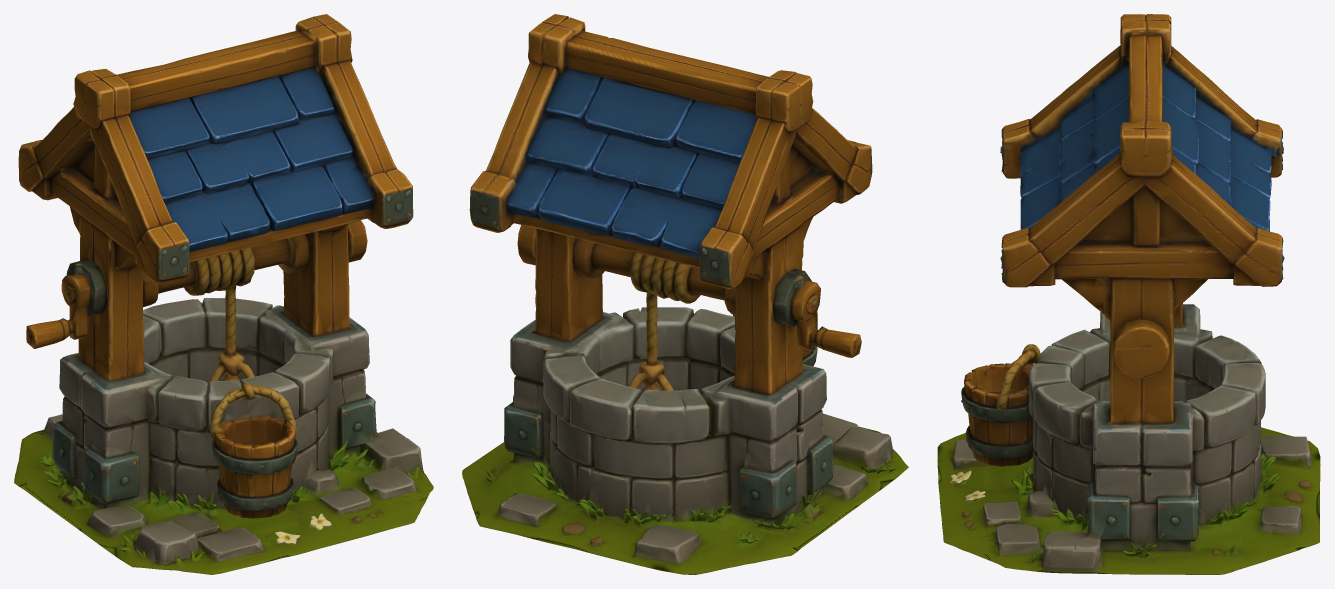
The model's file is well.glb.
3 renders of one model, left to right at view 1: azimuth 30°, elevation 25°; view 2: azimuth 150°, elevation 25°; view 3: azimuth 270°, elevation 25°, orthographic. The views are drawn at different scales.
Parts seen in each view (by area): view 1: tripo_node_8d98aa59-1e38-4f8b-95e8-5503d27db2a3; view 2: tripo_node_8d98aa59-1e38-4f8b-95e8-5503d27db2a3; view 3: tripo_node_8d98aa59-1e38-4f8b-95e8-5503d27db2a3.
Part boxes in pixels (box(x1,y1,x2,y2)): tripo_node_8d98aa59-1e38-4f8b-95e8-5503d27db2a3: box(14, 14, 433, 574); tripo_node_8d98aa59-1e38-4f8b-95e8-5503d27db2a3: box(462, 14, 908, 574); tripo_node_8d98aa59-1e38-4f8b-95e8-5503d27db2a3: box(937, 14, 1320, 574).
Bounding box in the file's own units: 0.8595 × 1 × 0.8231.
Materials: 1 (1 with a texture image).
